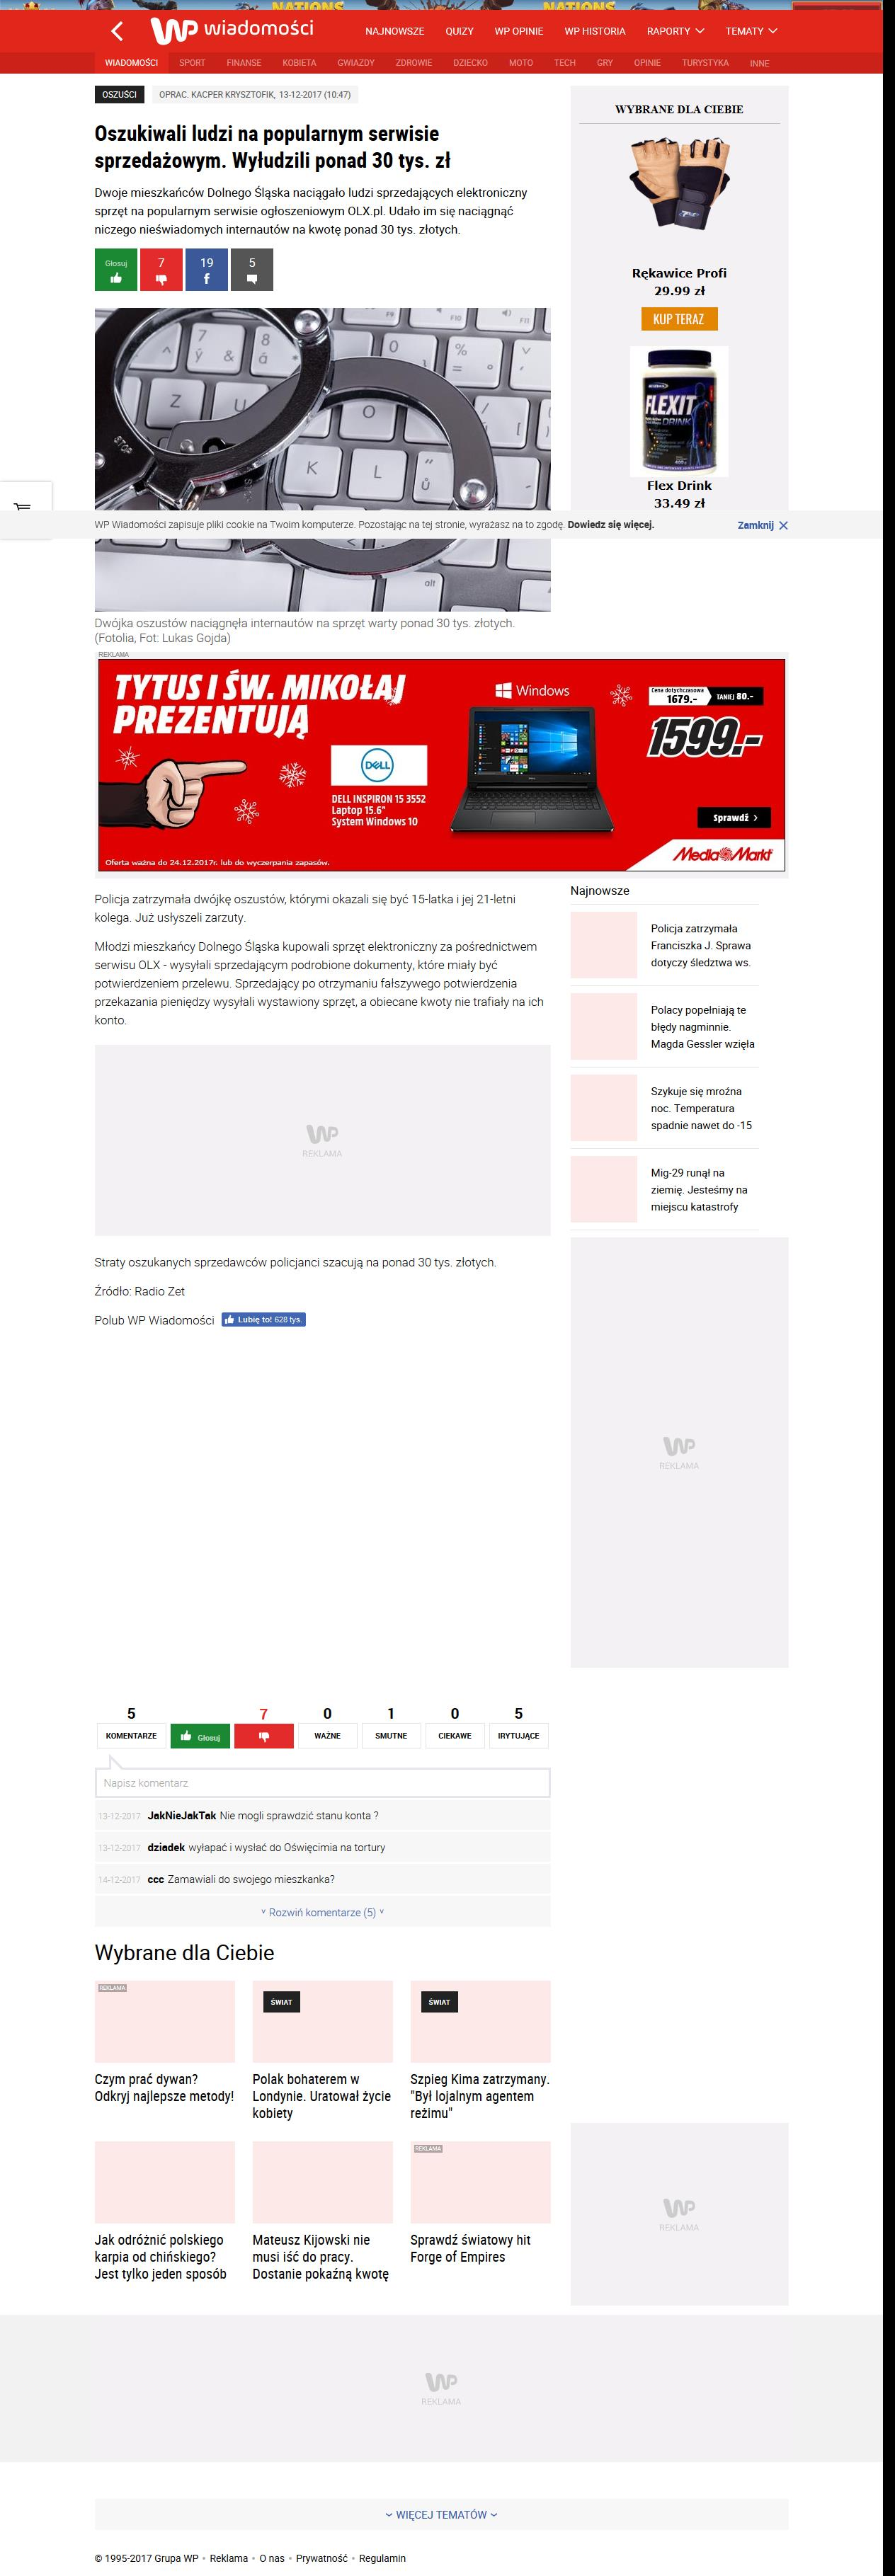title: (94, 123, 453, 172)
